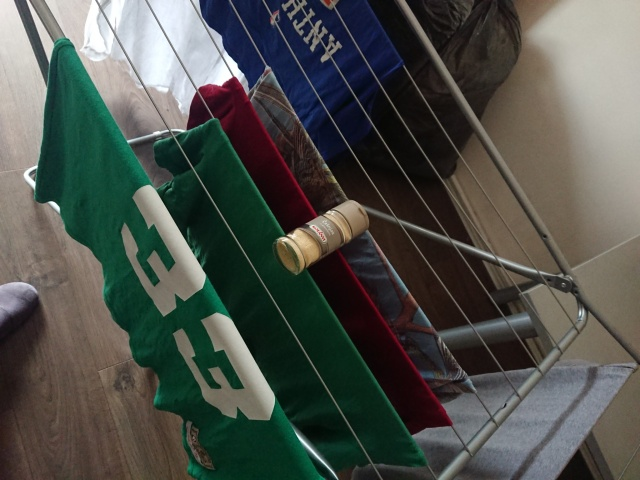Kotanyi Garlic Granules 70g: (268, 197, 372, 279)
